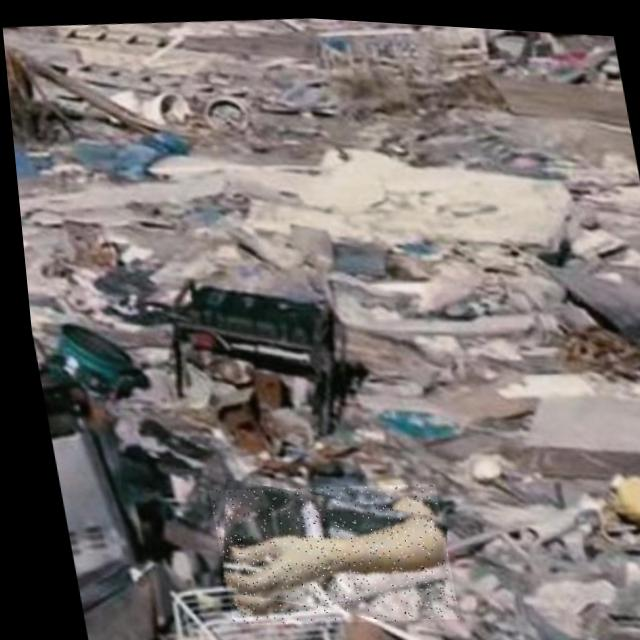Person in Rubble: (197, 468, 449, 633)
